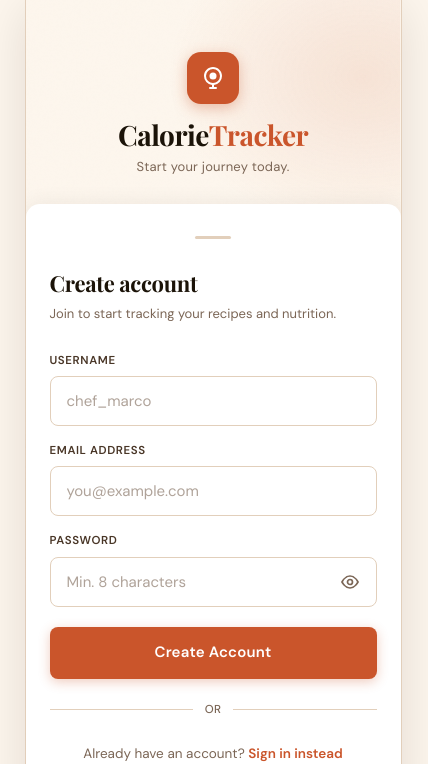
it: RegisterPage — validation › rejects a username shorter than 3 characters
Type "ab" into the field labelled "Username". click: (213,401)
box: [50,376,376,426]
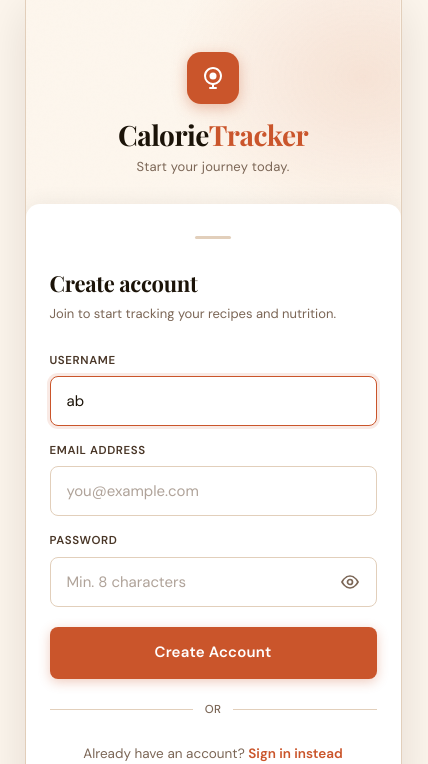
Type "a@b.com" into the field labelled "Email address". click: (213,491)
box: [50,466,376,516]
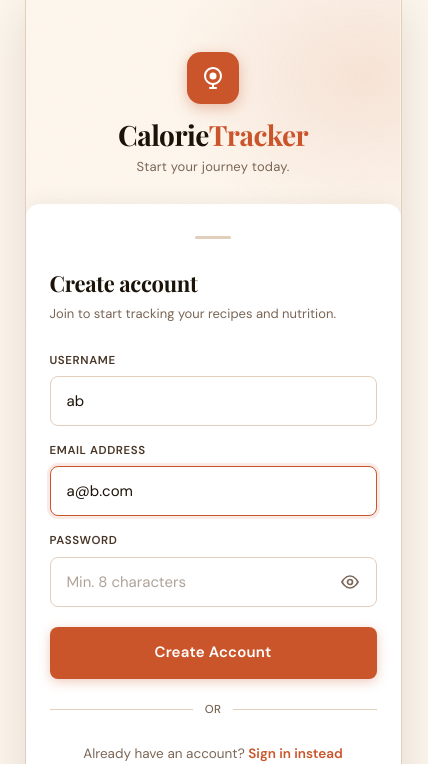
Type "password123" into the password field labelled "Password". click: (213,582)
box: [50,556,376,606]
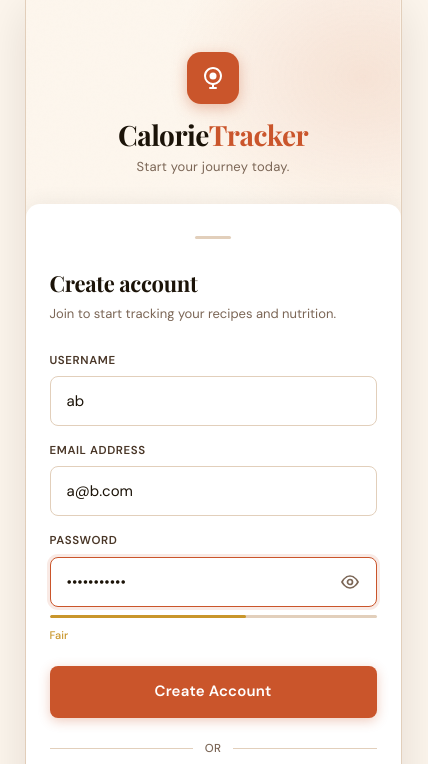
Click the button "Create Account". click: (213,692)
box: [50,666,376,718]
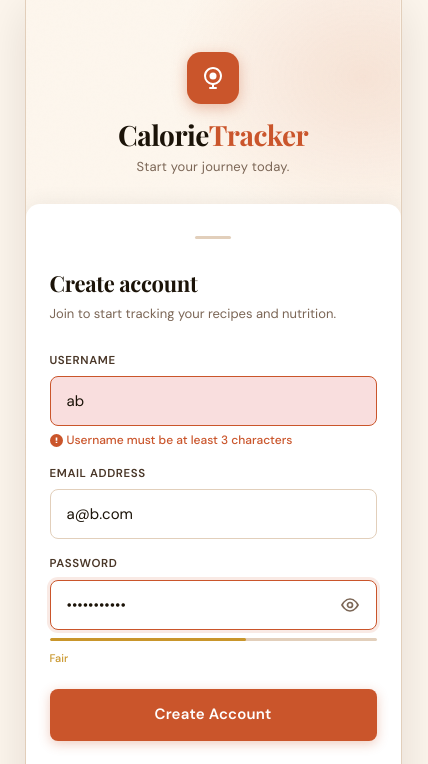
expect the text "Username must be at least 3 characters" is shown: met, box [50,432,292,448]
